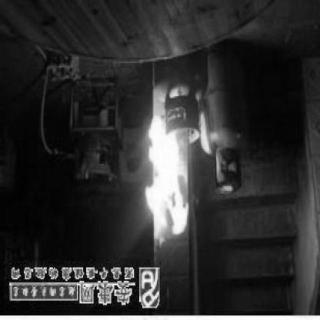Fire: (144, 117, 192, 245)
